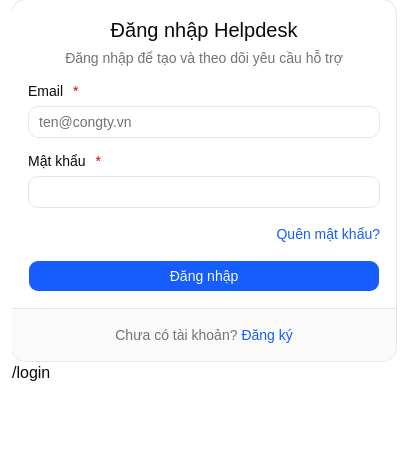
Test: LoginPage › shows an error for wrong credentials
The width and height of the screenshot is (414, 454).
Type "customer@helpdesk.local" into the field labelled "Email" at (204, 122), box [28,106,380,138]
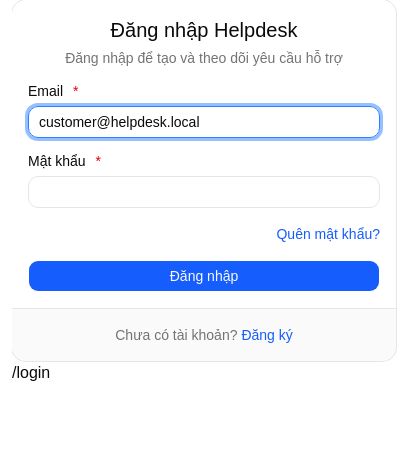
Type "Wrong@123" into the password field labelled "Mật khẩu" at (204, 192), box [28,176,380,208]
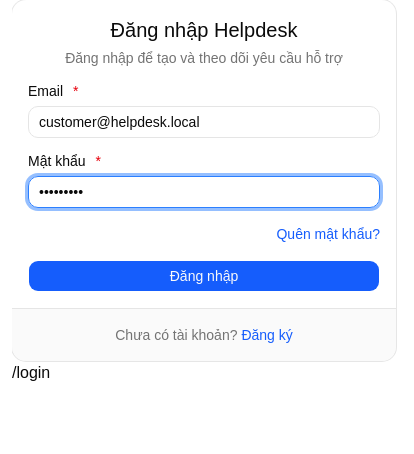
Click the button "Đăng nhập" at (204, 276), box [28,260,380,292]
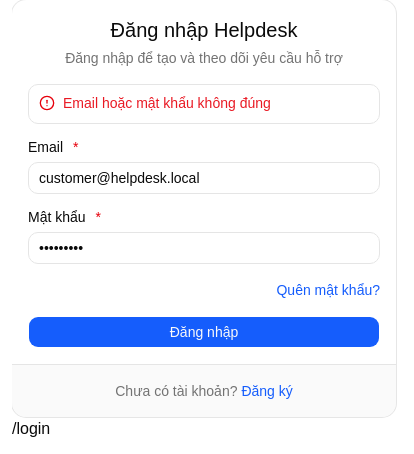
Result: the text "Email hoặc mật khẩu không đúng" is shown at [63,95,271,111]
